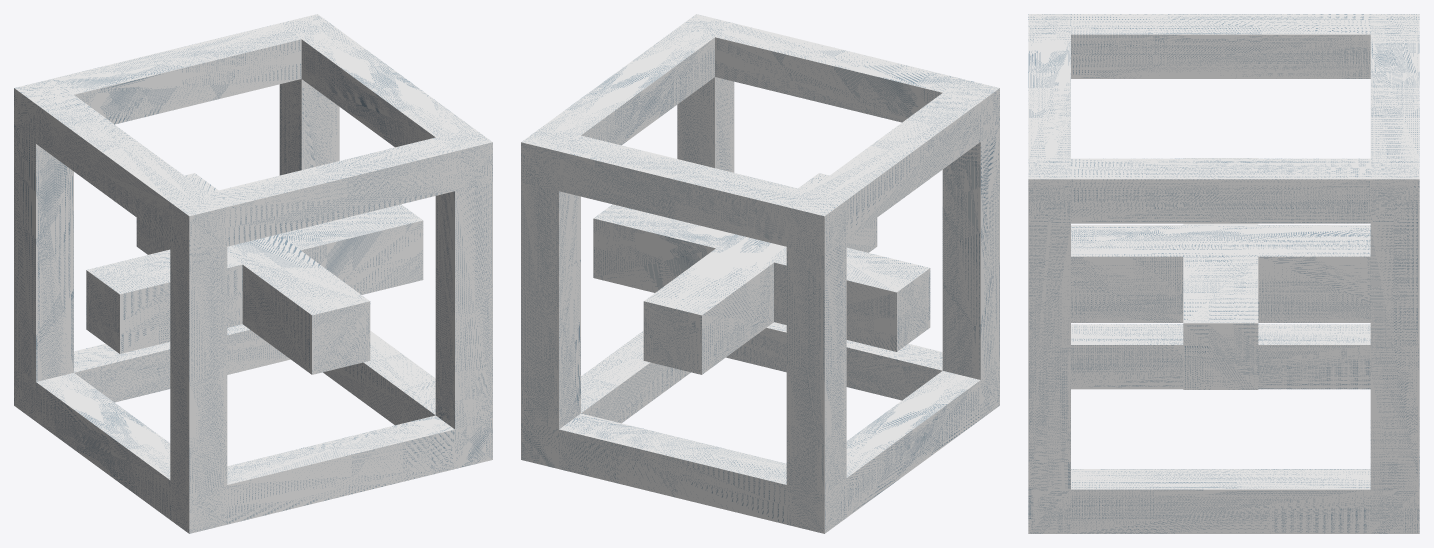
3 renders of one model, left to right at view 1: azimuth 30°, elevation 25°; view 2: azimuth 150°, elevation 25°; view 3: azimuth 270°, elevation 25°, orthographic. The views are drawn at different scales.
Visible parts, largest first — view 1: Model; view 2: Model; view 3: Model.
Boxes of the visible parts, x1,y1,x2,y2 form: Model: (14,14,492,533); Model: (521,14,999,533); Model: (1028,14,1419,533).
Size of the model in its own units: 8.24 by 8.24 by 8.24.
